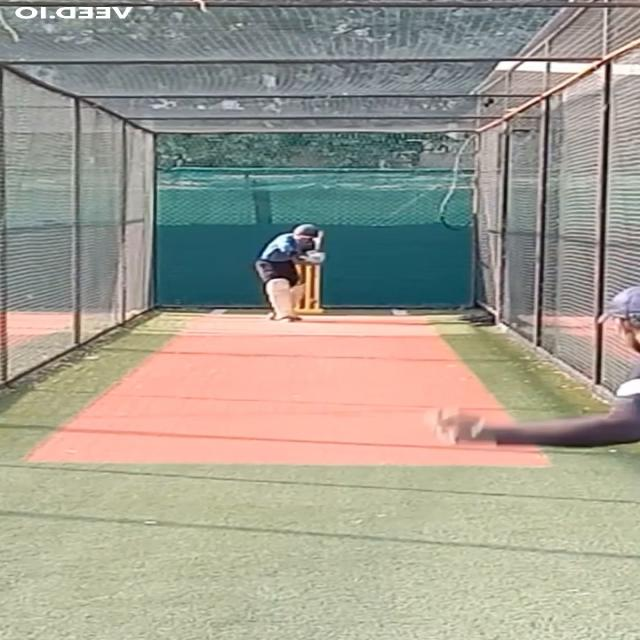ball: (304, 297, 316, 305)
stump: (292, 263, 323, 315)
